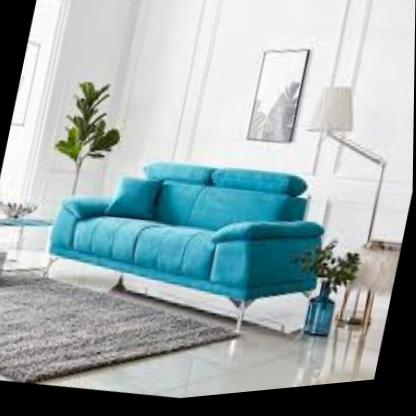Sofa: (17, 81, 373, 395)
